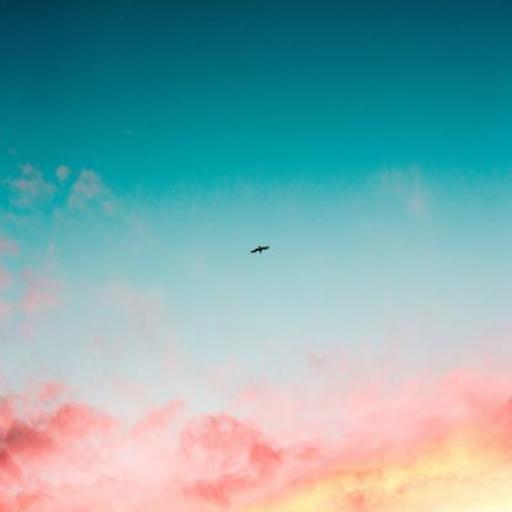bird: (250, 245, 269, 255)
